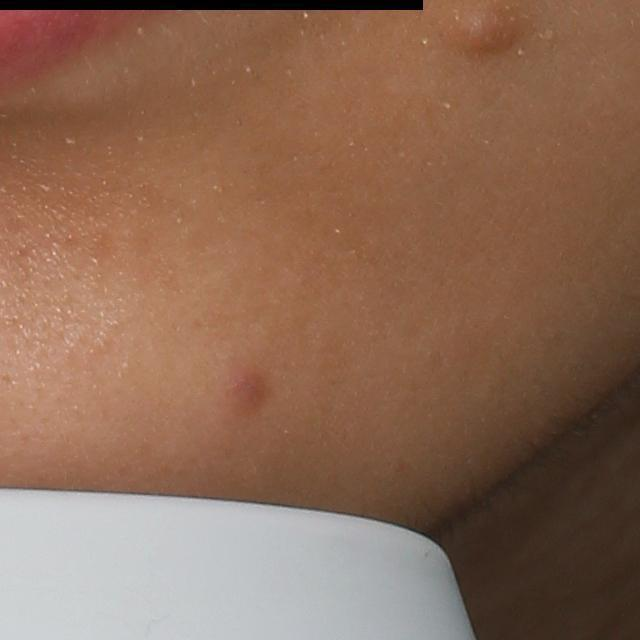papule: (217, 363, 270, 425)
